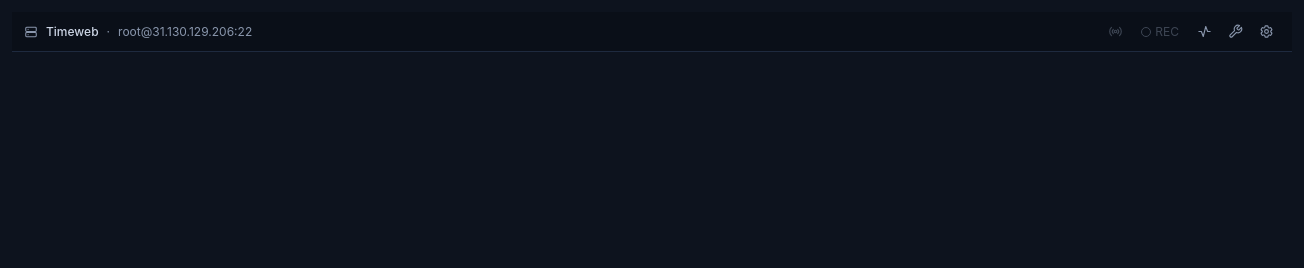
Scenario: TopBar — the user's buttons › the menu is a checklist of every button, and a tick puts one back
Right-click the element with test id "topbar-actions" at (1191, 32), box [1102,18,1280,45]
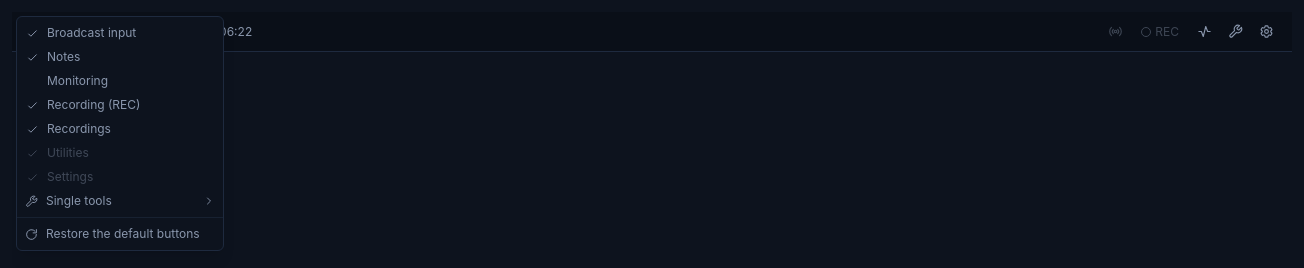
Check: the 4th icon is shown, box [26,122,38,136]
Click the menu item "Monitoring" at (120, 81), box [17,69,223,93]
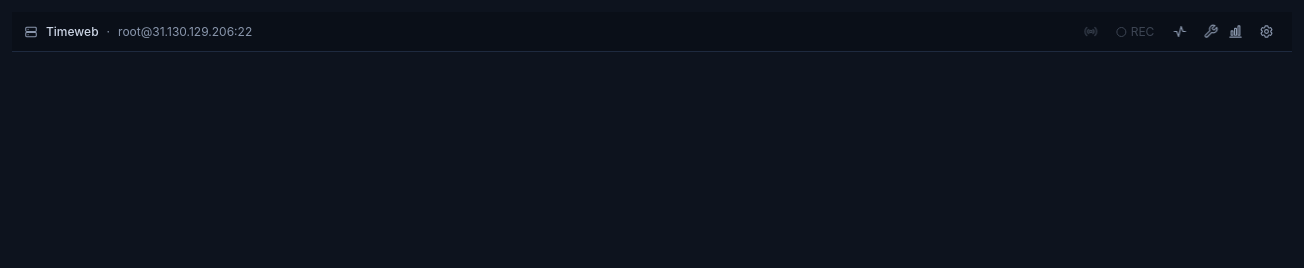
Check: the button with test id "topbar-monitoring" is shown, box [1222,18,1249,45]
